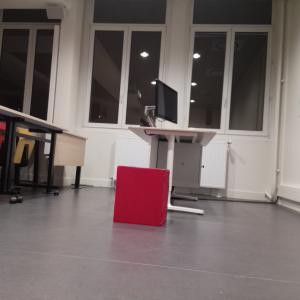medium: (111, 163, 173, 231)
